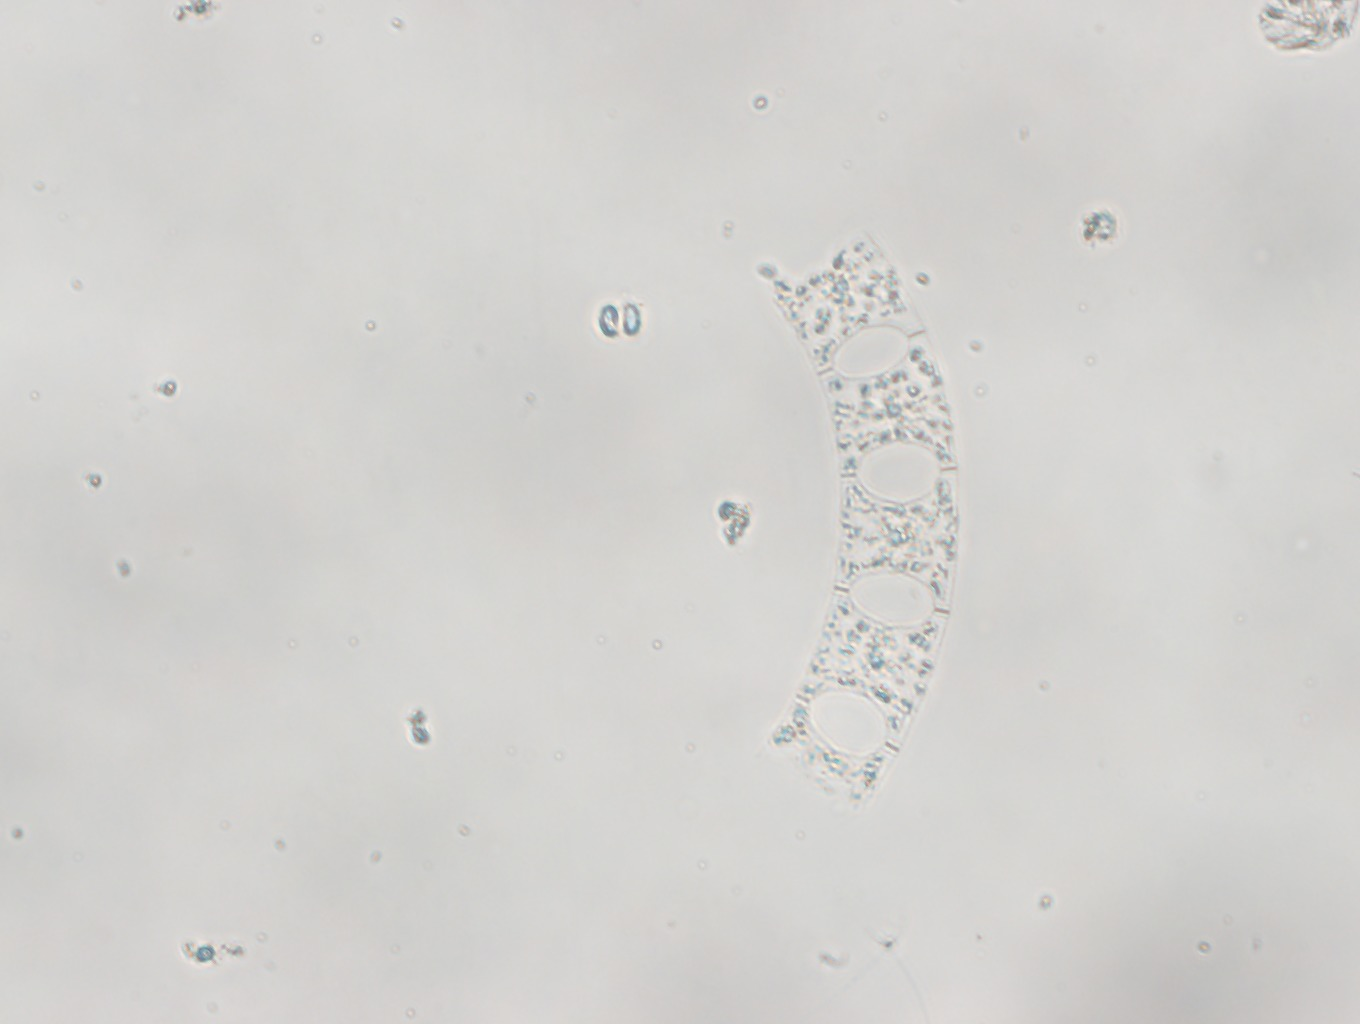eucampia: (751, 233, 962, 800)
